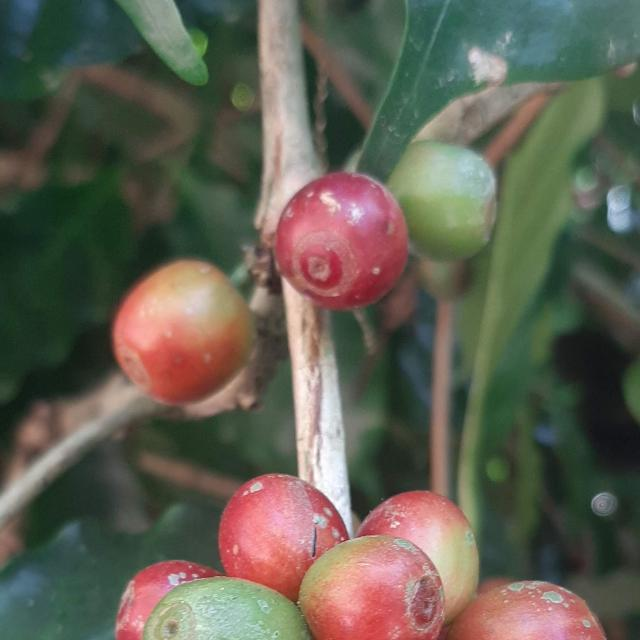green: (388, 141, 496, 261), (142, 578, 312, 640)
yellow: (112, 259, 254, 405), (275, 171, 408, 310), (218, 474, 349, 602), (357, 492, 479, 624), (299, 536, 445, 640), (447, 582, 607, 640), (115, 561, 222, 640)
